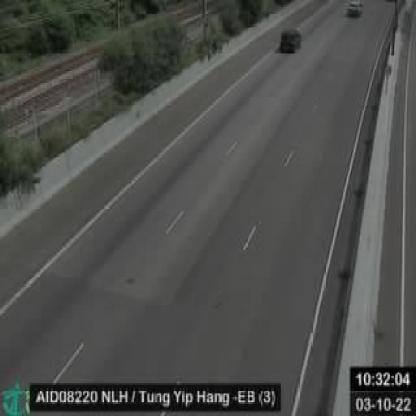Car: (278, 30, 300, 56)
